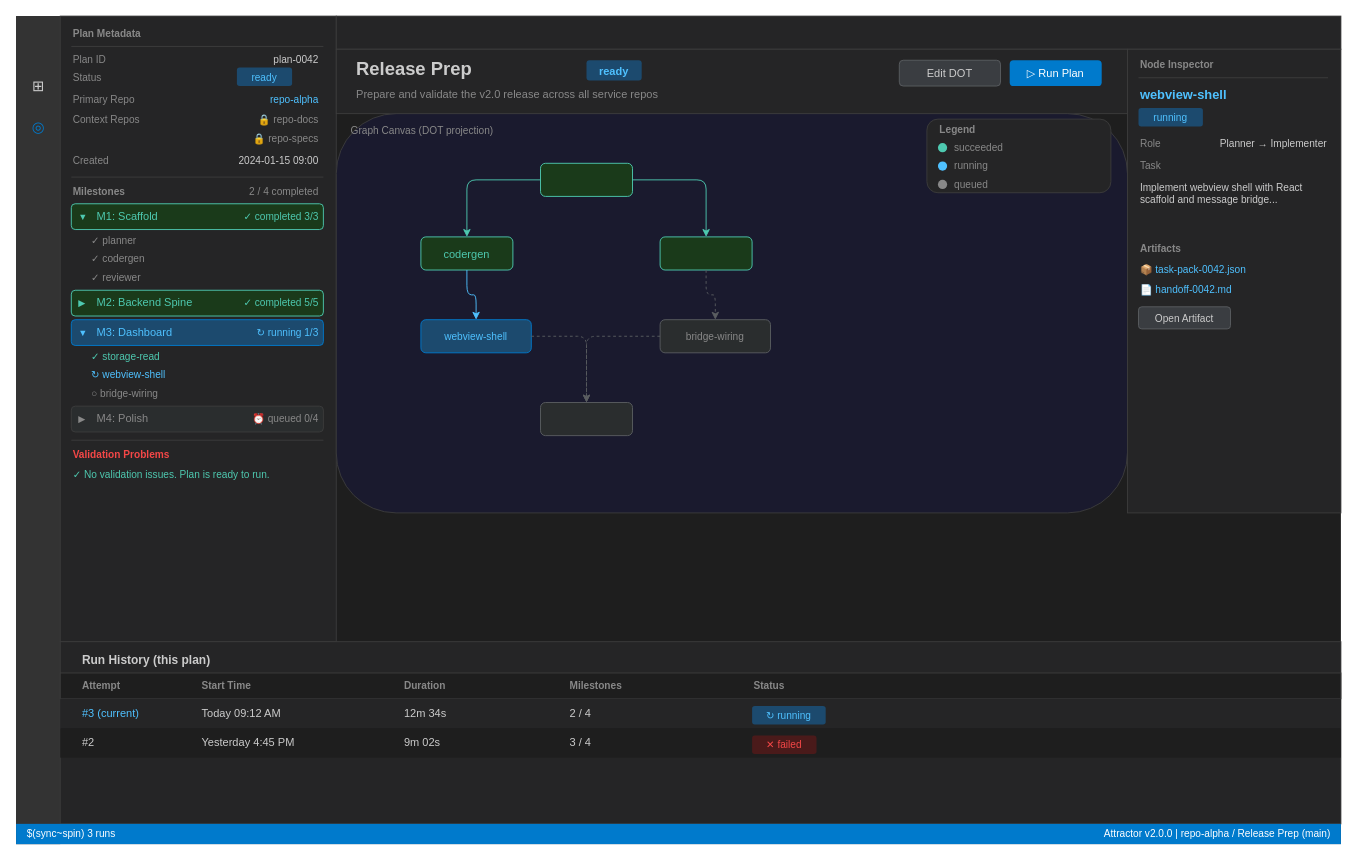
Some shapes in this 1357 by 860 pixel diagram are drawn without their labels. The shapes that lost their labels are listed below. From the top down, each one's box as (x1, y1, x2, y2) in pixels, then its label:
(335, 15, 1341, 49): Overview / repo-alpha / Release Prep
(540, 162, 632, 196): planner
(659, 236, 752, 270): reviewer
(540, 402, 632, 436): final-qa
